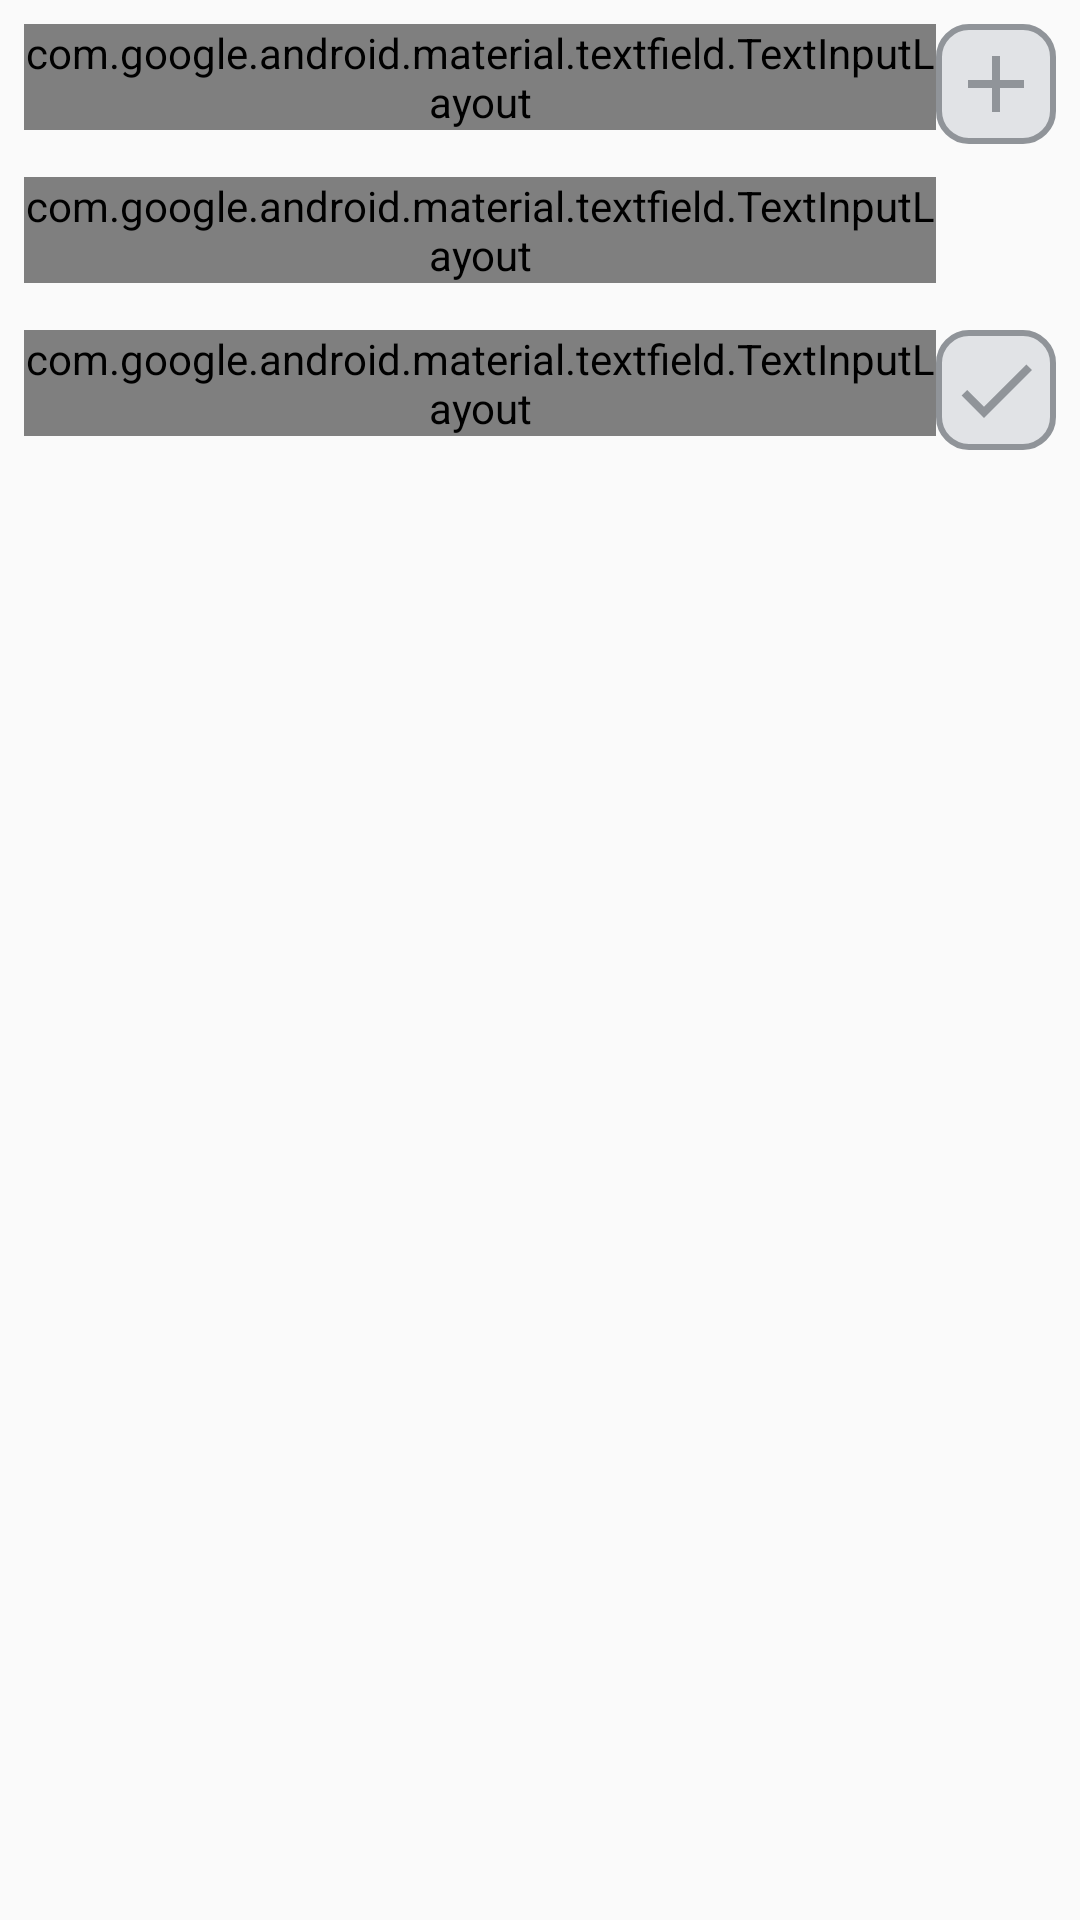

Named icons in this screenshot (1080 × 1920) and their centers, (x,y):
add: (996,84)
done: (996,390)
